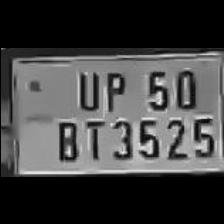0: (170, 64, 200, 108)
2: (162, 114, 186, 160)
3: (106, 116, 132, 160)
5: (133, 112, 161, 160), (140, 66, 170, 110), (188, 111, 216, 158)
B: (52, 116, 80, 160)
P: (98, 66, 128, 110)
T: (80, 116, 106, 160)
U: (72, 64, 100, 112)
